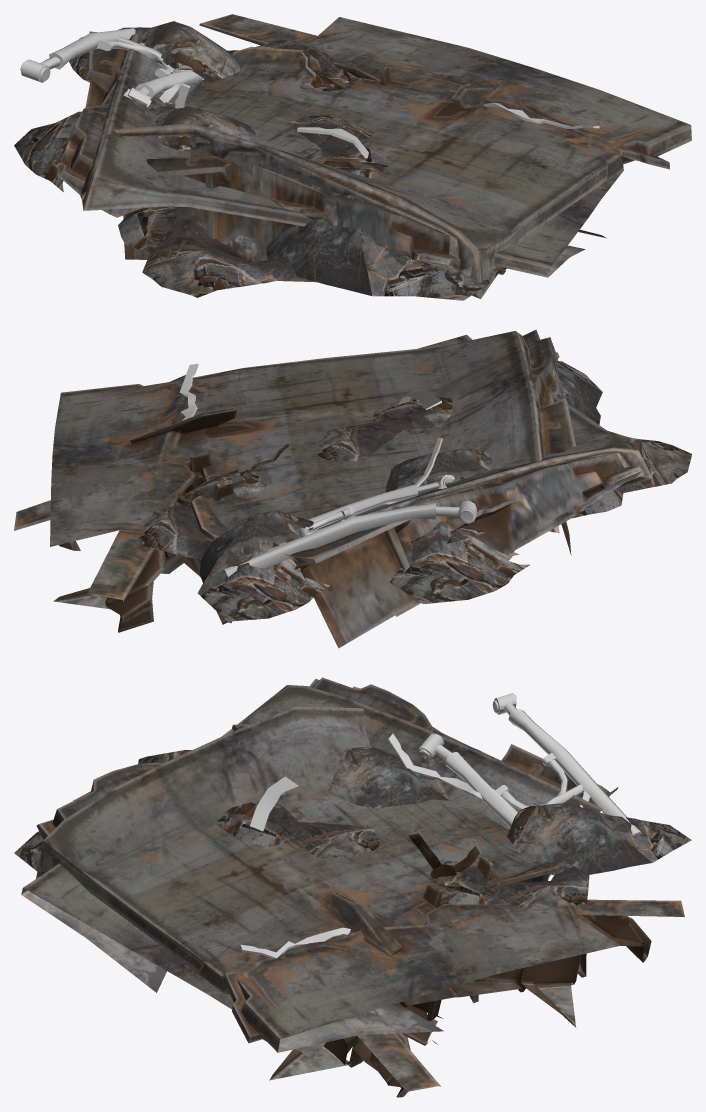
File: plane_wreckage_debris_02.dae
The picture shows the model from 3 angles, top to bottom: view 1: azimuth 30°, elevation 25°; view 2: azimuth 150°, elevation 25°; view 3: azimuth 270°, elevation 25°; orthographic projection. The views are drawn at different scales.
Visible parts, largest first — view 1: pasted__plane_wreckage_wing1, pasted__plane_wreckage_wing3, polySurface45, polySurface43, polySurface46, polySurface42, polySurface44, pasted__polySurface43, pasted__polySurface46, pasted__polySurface44; view 2: pasted__plane_wreckage_wing1, pasted__plane_wreckage_wing3, polySurface43, polySurface46, polySurface44, polySurface42, polySurface45, pasted__polySurface46, pasted__polySurface43; view 3: pasted__plane_wreckage_wing1, pasted__plane_wreckage_wing3, polySurface43, polySurface46, polySurface42, polySurface45, pasted__polySurface45, pasted__polySurface43, pasted__polySurface44, pasted__polySurface46.
Boxes of the visible parts, x1,y1,x2,y2 form: pasted__plane_wreckage_wing1: (113,14,691,298); pasted__plane_wreckage_wing3: (56,31,623,278); polySurface45: (118,195,489,300); polySurface43: (69,21,356,91); polySurface46: (155,106,388,178); polySurface42: (20,27,203,106); polySurface44: (14,103,155,191); pasted__polySurface43: (297,127,368,158); pasted__polySurface46: (482,102,599,128); pasted__polySurface44: (159,82,190,108); pasted__plane_wreckage_wing1: (50,329,576,632); pasted__plane_wreckage_wing3: (14,334,652,648); polySurface43: (138,474,330,621); polySurface46: (317,395,492,544); polySurface44: (389,481,529,604); polySurface42: (224,475,476,576); polySurface45: (530,357,691,518); pasted__polySurface46: (179,363,198,420); pasted__polySurface43: (394,389,441,409); pasted__plane_wreckage_wing1: (36,706,684,1052); pasted__plane_wreckage_wing3: (21,677,618,1097); polySurface43: (430,803,691,909); polySurface46: (217,746,448,858); polySurface42: (419,693,641,835); polySurface45: (14,750,191,874); pasted__polySurface45: (408,833,479,878); pasted__polySurface43: (249,776,298,831); pasted__polySurface44: (387,733,483,800); pasted__polySurface46: (240,927,350,958).
Bounding box in the file's own units: 404 × 133 × 413.
